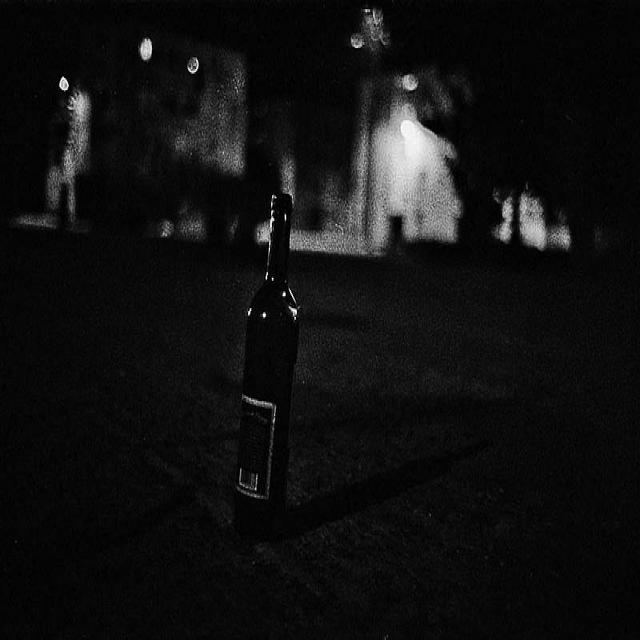Bottle: (230, 181, 305, 540)
